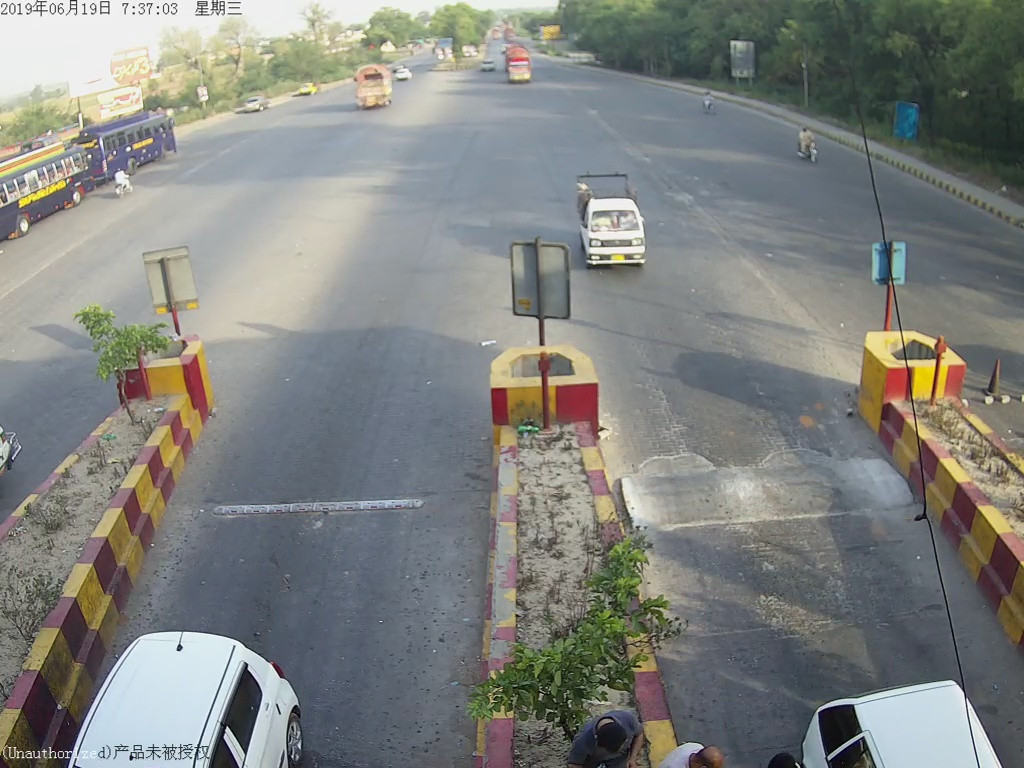Cat-1: (573, 165, 652, 272)
